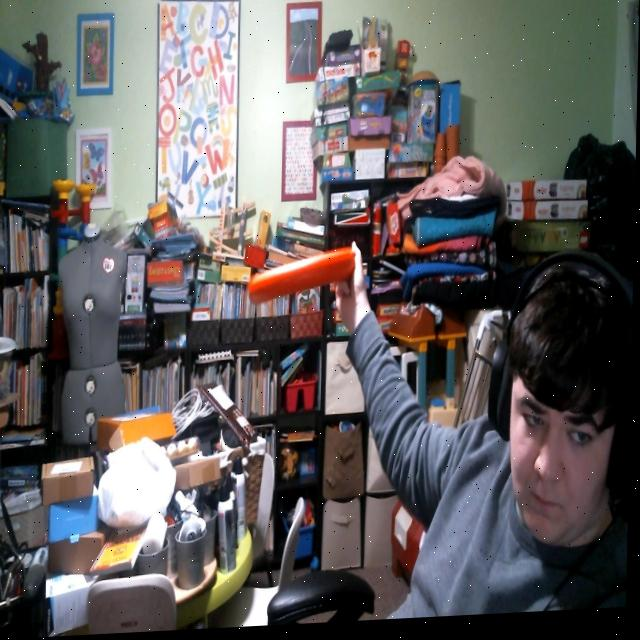note: (249, 245, 356, 306)
